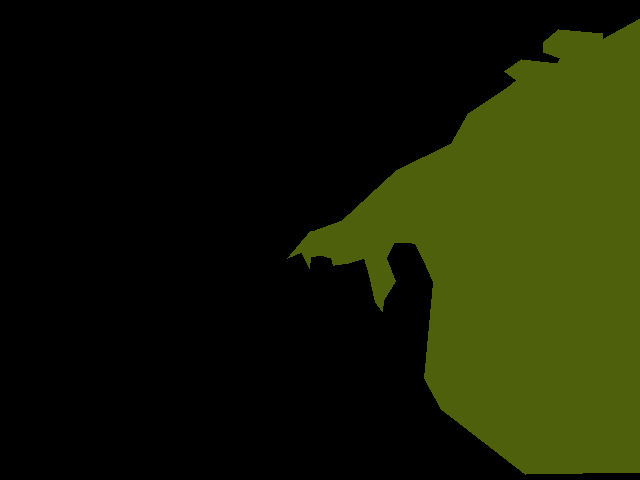Train: (287, 18, 640, 475)
